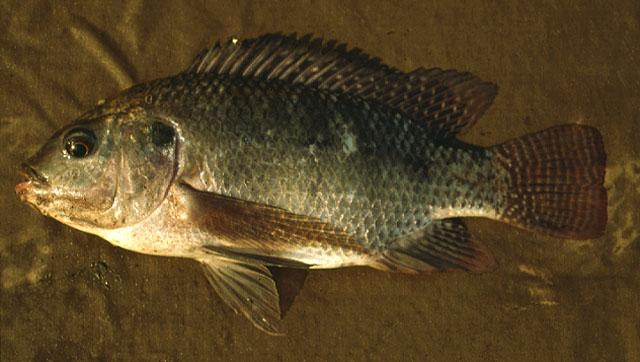Tilapia: (8, 27, 612, 337)
